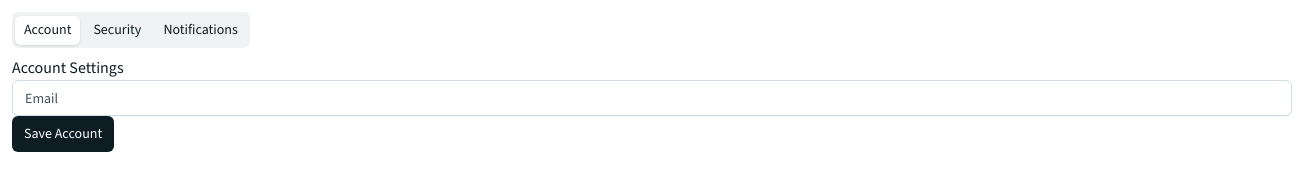
Test: Navigation Integration › Tabs with content › switches between tabs
Check: the heading "Account Settings" is shown, box [12, 57, 124, 78]
// Switch to security tab
Click the tab "Security".
click(117, 30)  # box [84, 16, 150, 44]
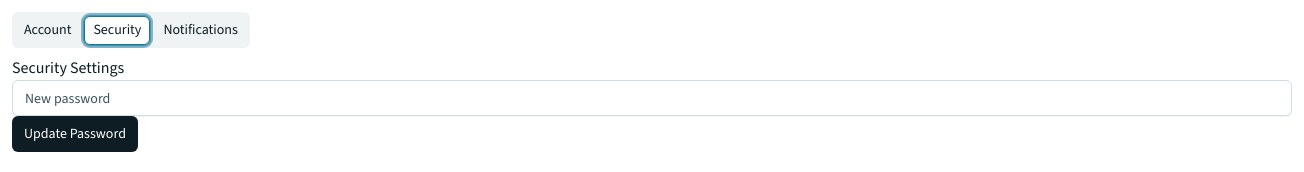
Check: the heading "Security Settings" is shown, box [12, 57, 124, 78]
Check: the password field with placeholder "New password" is shown, box [12, 80, 1292, 116]
// Switch to notifications tab
Click the tab "Notifications".
click(201, 30)  # box [154, 16, 247, 44]
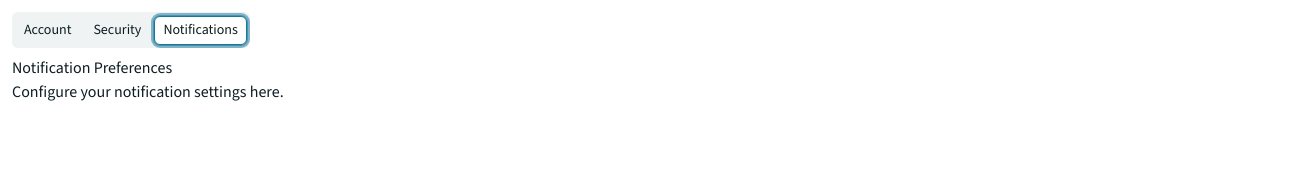
Check: the heading "Notification Preferences" is shown, box [12, 57, 172, 78]
